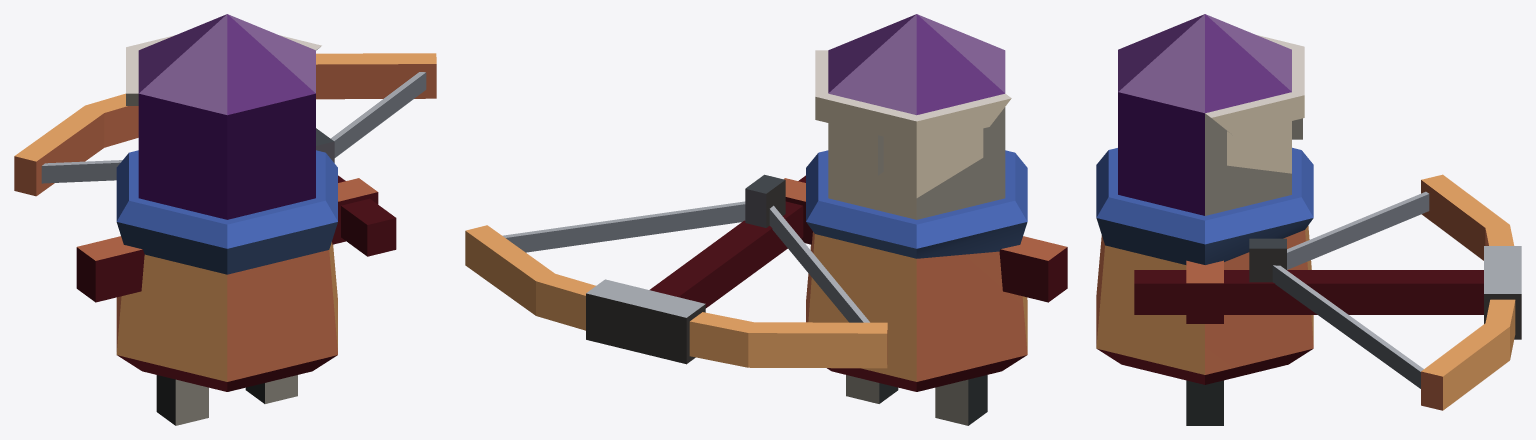
File: ArcherUnitMesh.obj
3 views of the same model, side by side, from view 1: azimuth 30°, elevation 25°; view 2: azimuth 150°, elevation 25°; view 3: azimuth 270°, elevation 25° (orthographic).
Parts seen in each view (by area): view 1: ArcherUnitMesh; view 2: ArcherUnitMesh; view 3: ArcherUnitMesh.
Part boxes in pixels (x1,y1,x2,y2): ArcherUnitMesh: [14, 14, 436, 425]; ArcherUnitMesh: [465, 14, 1067, 425]; ArcherUnitMesh: [1096, 14, 1521, 425].
Bounding box in the file's own units: 4.26 × 3.36 × 3.39.
